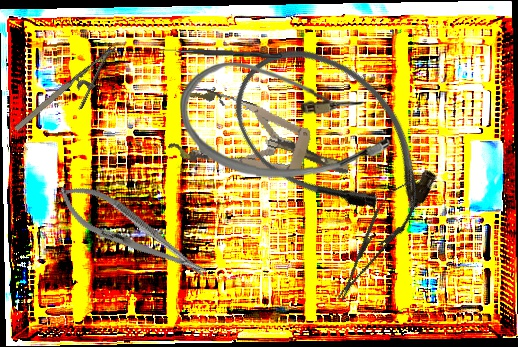Cannula: (209, 20, 463, 258), (179, 60, 391, 180)
Hook Surgical: (154, 47, 283, 59)
Needle Holder: (49, 172, 216, 293), (325, 168, 430, 309), (11, 43, 134, 149)
Speculum: (166, 83, 359, 206)
